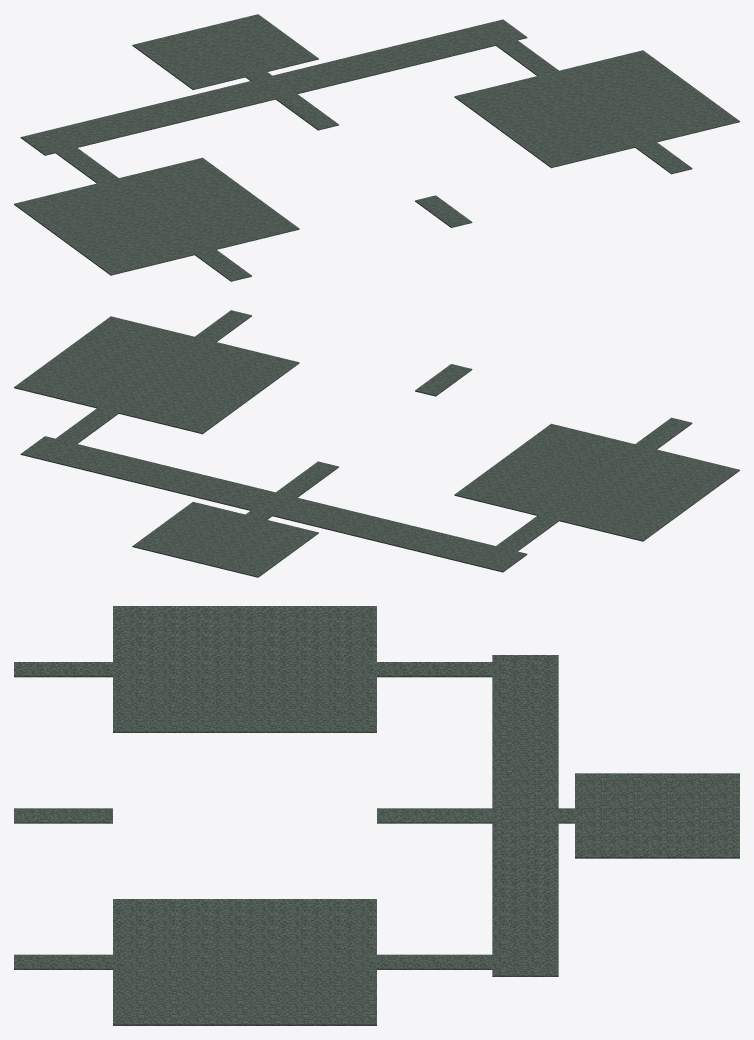
File: FERI_Removable_Roofs.fbx
The picture shows the model from 3 angles, top to bottom: view 1: azimuth 30°, elevation 25°; view 2: azimuth 150°, elevation 25°; view 3: azimuth 270°, elevation 25°; orthographic projection. The views are drawn at different scales.
Parts seen in each view (by area): view 1: PL_Roof_Route_C, PL_Roof_Route_A, PL_Roof_Shared_Landing, PL_Roof_Arena_Classroom, PL_Roof_Route_B; view 2: PL_Roof_Route_A, PL_Roof_Route_C, PL_Roof_Shared_Landing, PL_Roof_Arena_Classroom, PL_Roof_Route_B; view 3: PL_Roof_Route_C, PL_Roof_Route_A, PL_Roof_Shared_Landing, PL_Roof_Arena_Classroom, PL_Roof_Route_B.
Part boxes in pixels (left/top/right/bottom): PL_Roof_Route_C: left=454, top=39, right=739, bottom=174; PL_Roof_Route_A: left=14, top=147, right=299, bottom=281; PL_Roof_Shared_Landing: left=20, top=19, right=527, bottom=155; PL_Roof_Arena_Classroom: left=132, top=14, right=318, bottom=89; PL_Roof_Route_B: left=275, top=93, right=472, bottom=227; PL_Roof_Route_A: left=454, top=417, right=739, bottom=551; PL_Roof_Route_C: left=14, top=310, right=299, bottom=443; PL_Roof_Shared_Landing: left=20, top=436, right=527, bottom=572; PL_Roof_Arena_Classroom: left=132, top=502, right=318, bottom=577; PL_Roof_Route_B: left=276, top=364, right=472, bottom=497; PL_Roof_Route_C: left=14, top=899, right=492, bottom=1025; PL_Roof_Route_A: left=14, top=606, right=492, bottom=732; PL_Roof_Shared_Landing: left=492, top=655, right=574, bottom=976; PL_Roof_Arena_Classroom: left=575, top=773, right=739, bottom=858; PL_Roof_Route_B: left=14, top=808, right=492, bottom=823.
Bounding box in the file's own units: 120 × 0.2 × 88.
Materials: 1 (1 with a texture image).
